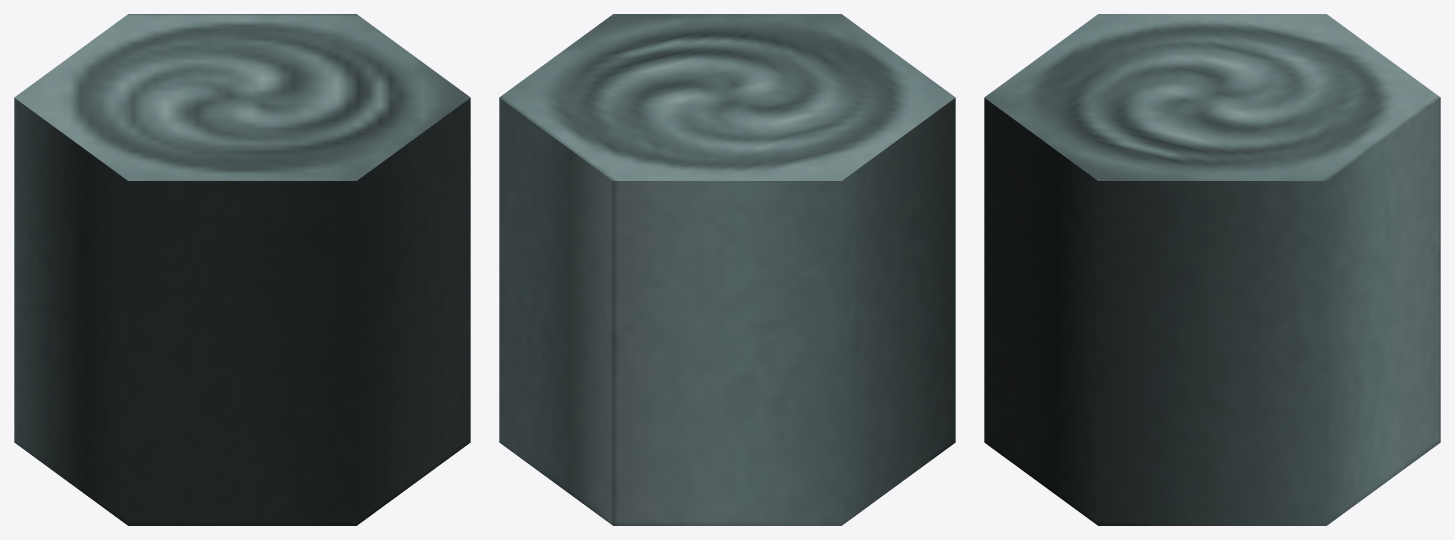
Rendered from roof_top_cap.fbx.
3 renders of one model, left to right at view 1: azimuth 30°, elevation 25°; view 2: azimuth 150°, elevation 25°; view 3: azimuth 270°, elevation 25°, orthographic.
Visible parts, largest first — view 1: roof_top_cap; view 2: roof_top_cap; view 3: roof_top_cap.
Part boxes in pixels (box(x1,y1,x2,y2)): roof_top_cap: box(14, 14, 470, 525); roof_top_cap: box(499, 14, 955, 525); roof_top_cap: box(984, 14, 1440, 525).
Bounding box in the file's own units: 51.96 × 50 × 60.
